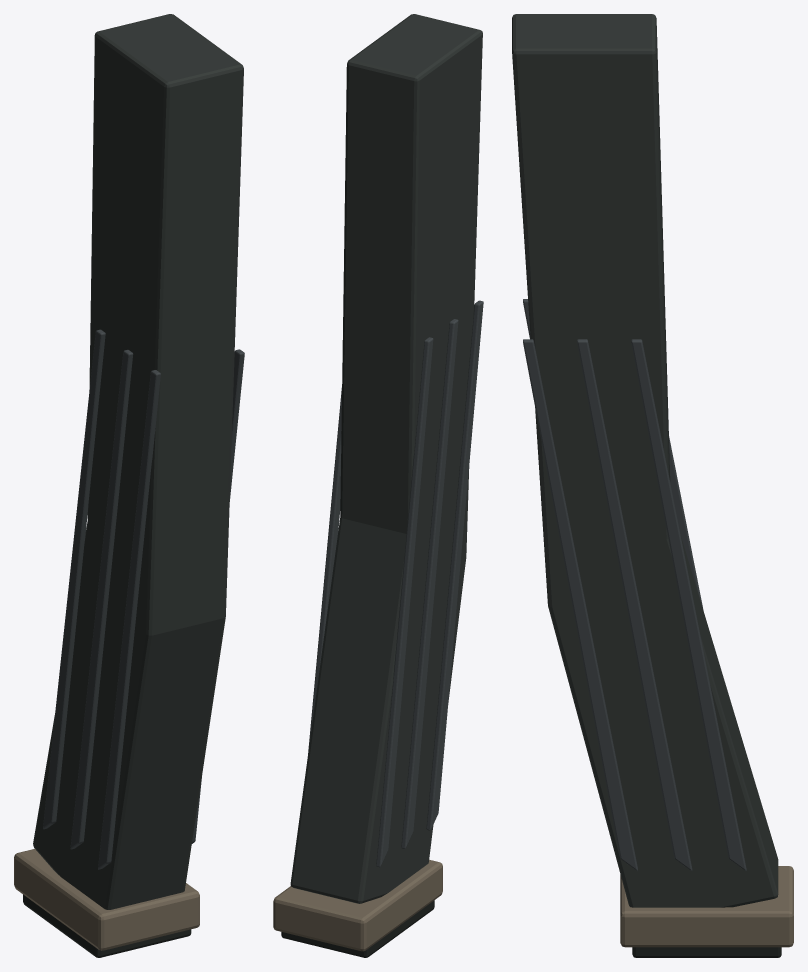
File: extmag.glb
The picture shows the model from 3 angles, left to right: view 1: azimuth 30°, elevation 25°; view 2: azimuth 150°, elevation 25°; view 3: azimuth 270°, elevation 25°; orthographic projection. The views are drawn at different scales.
Parts seen in each view (by area): view 1: extmag_Extended_shell, extmag_metal, extmag_Bronze_floorplate, extmag_Rubber_heel; view 2: extmag_Extended_shell, extmag_metal, extmag_Bronze_floorplate, extmag_Rubber_heel; view 3: extmag_Extended_shell, extmag_metal, extmag_Bronze_floorplate, extmag_Rubber_heel.
Boxes of the visible parts, <box> form: extmag_Extended_shell: <box>33,14,243,909</box>; extmag_metal: <box>43,329,244,869</box>; extmag_Bronze_floorplate: <box>14,849,199,950</box>; extmag_Rubber_heel: <box>23,894,191,957</box>; extmag_Extended_shell: <box>290,14,482,903</box>; extmag_metal: <box>308,300,483,867</box>; extmag_Bronze_floorplate: <box>273,859,442,951</box>; extmag_Rubber_heel: <box>281,900,434,957</box>; extmag_Extended_shell: <box>512,14,778,907</box>; extmag_metal: <box>523,299,746,870</box>; extmag_Bronze_floorplate: <box>620,866,793,947</box>; extmag_Rubber_heel: <box>632,947,781,957</box>.
Bounding box in the file's own units: 0.032 × 0.2761 × 0.0779.
